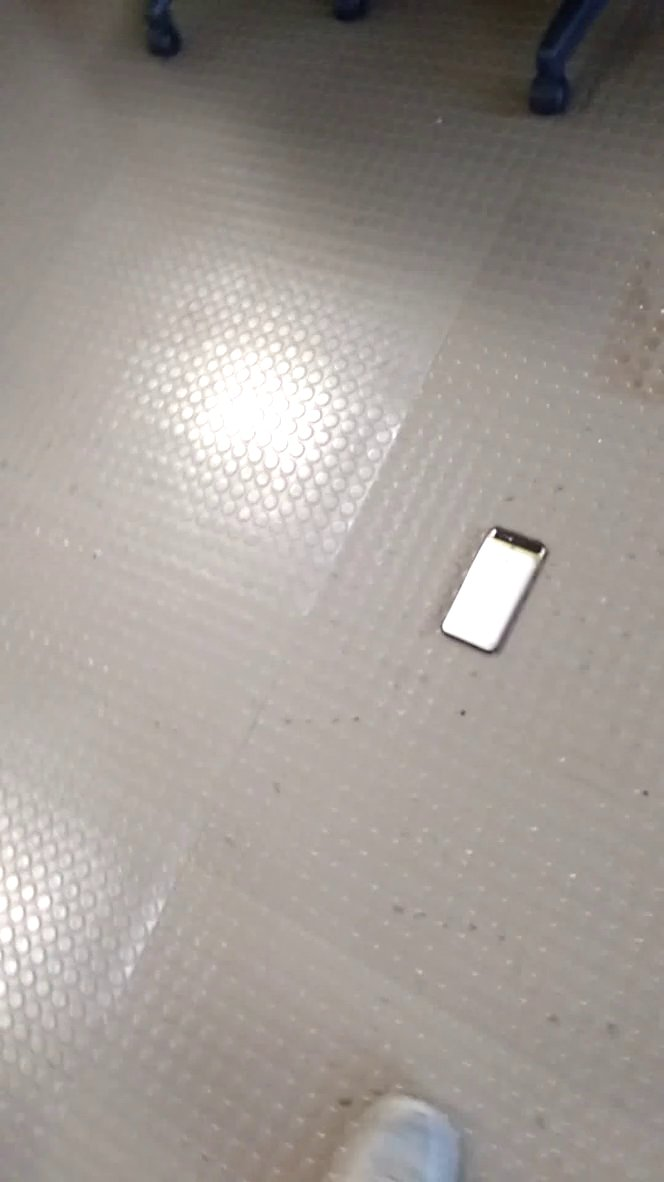phone: (430, 519, 564, 659)
